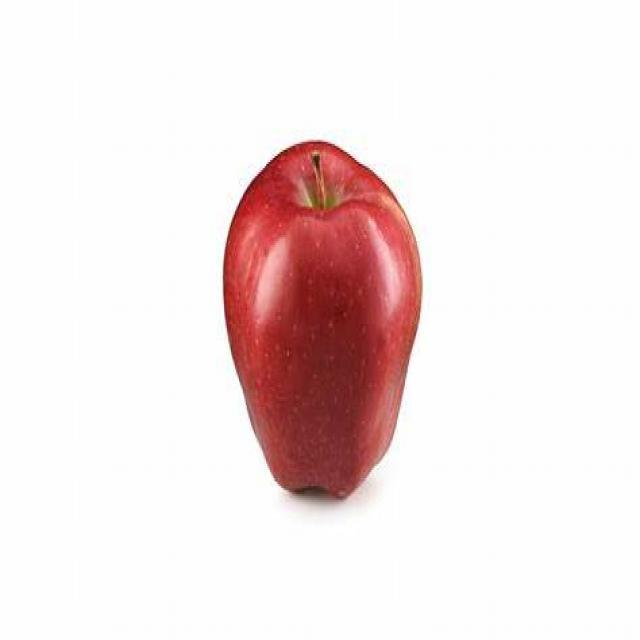Apple: (220, 136, 425, 498)
